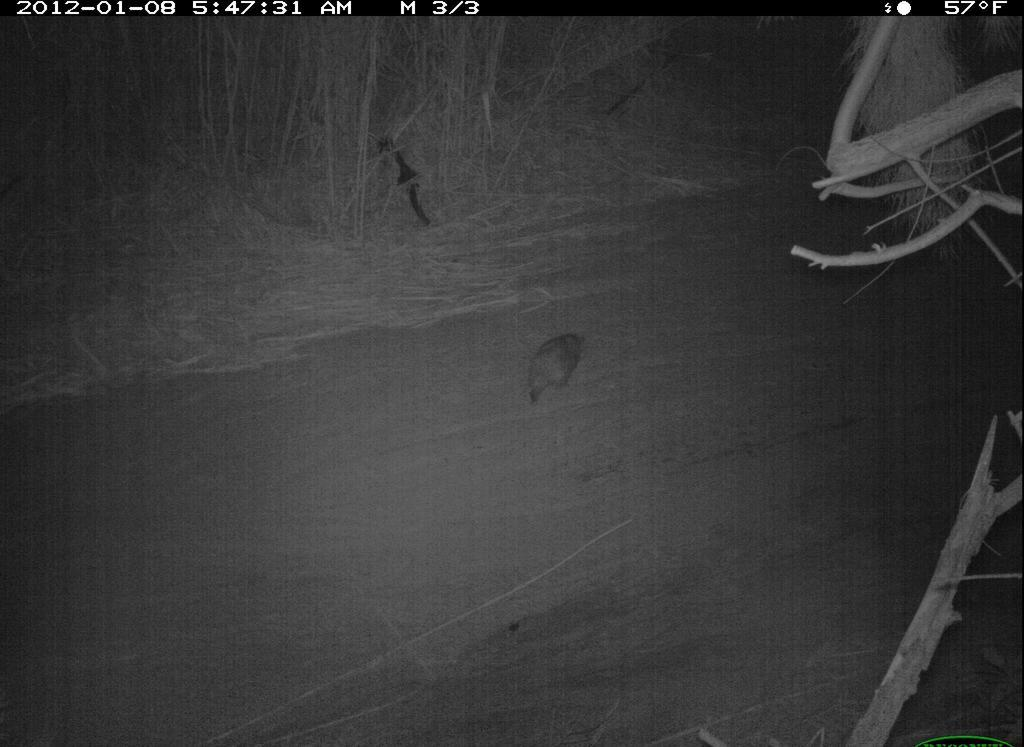opossum: (510, 322, 598, 411)
